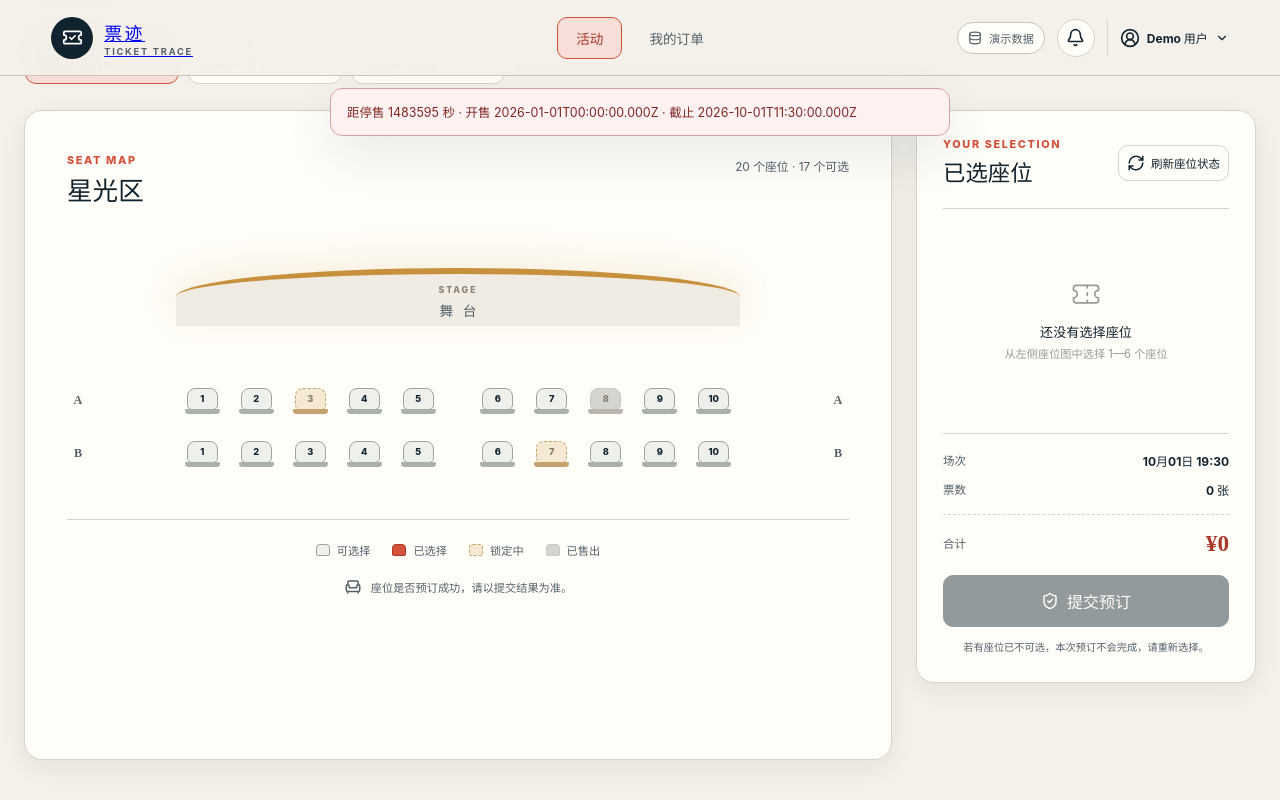
Test: Phase 9 application shell and routes › keeps the current seat snapshot and selection when availability refresh fails
(page scrolled)
Click the button named "A01，可选，¥1,280" at (202, 401), box [183, 384, 222, 418]
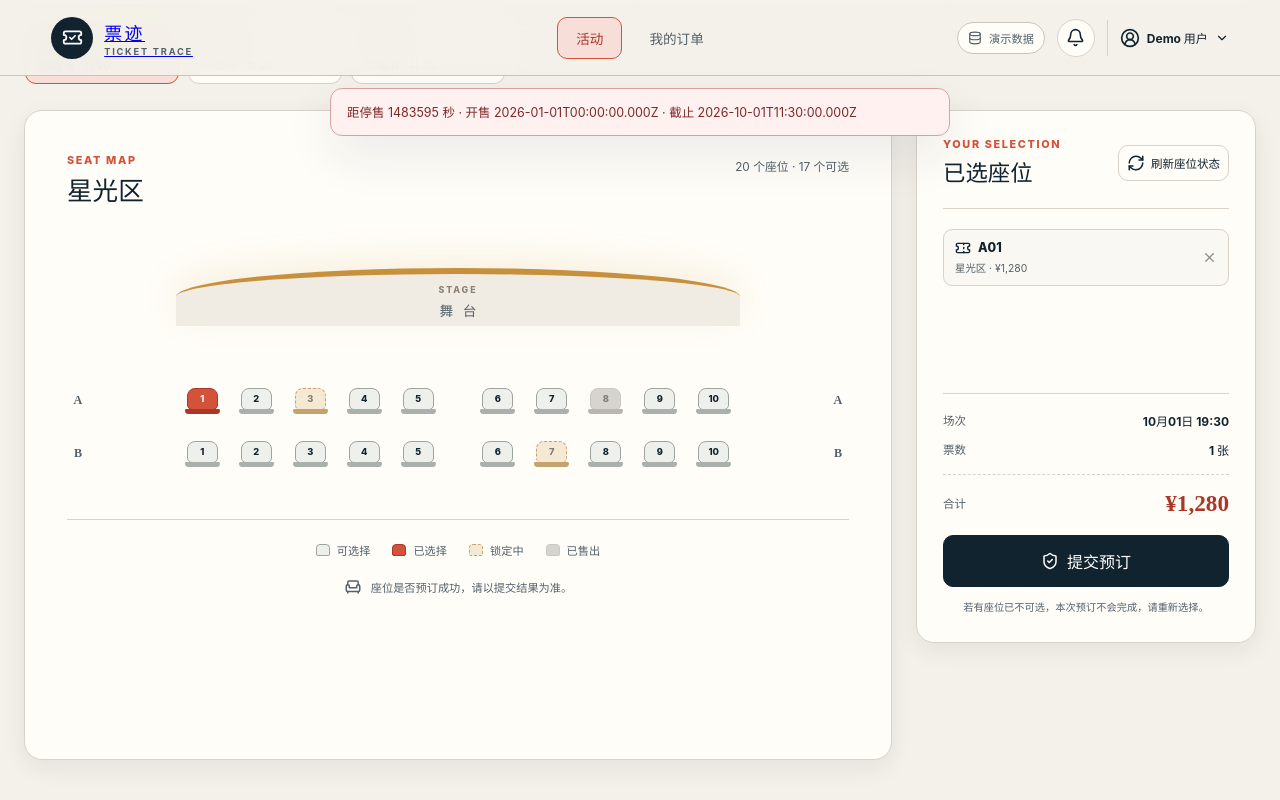
Check: the button with aria-label "移除座位 A01" is shown, box [943, 229, 1229, 286]
Click the button with aria-label "刷新座位状态" at (1173, 162), box [1118, 144, 1229, 180]
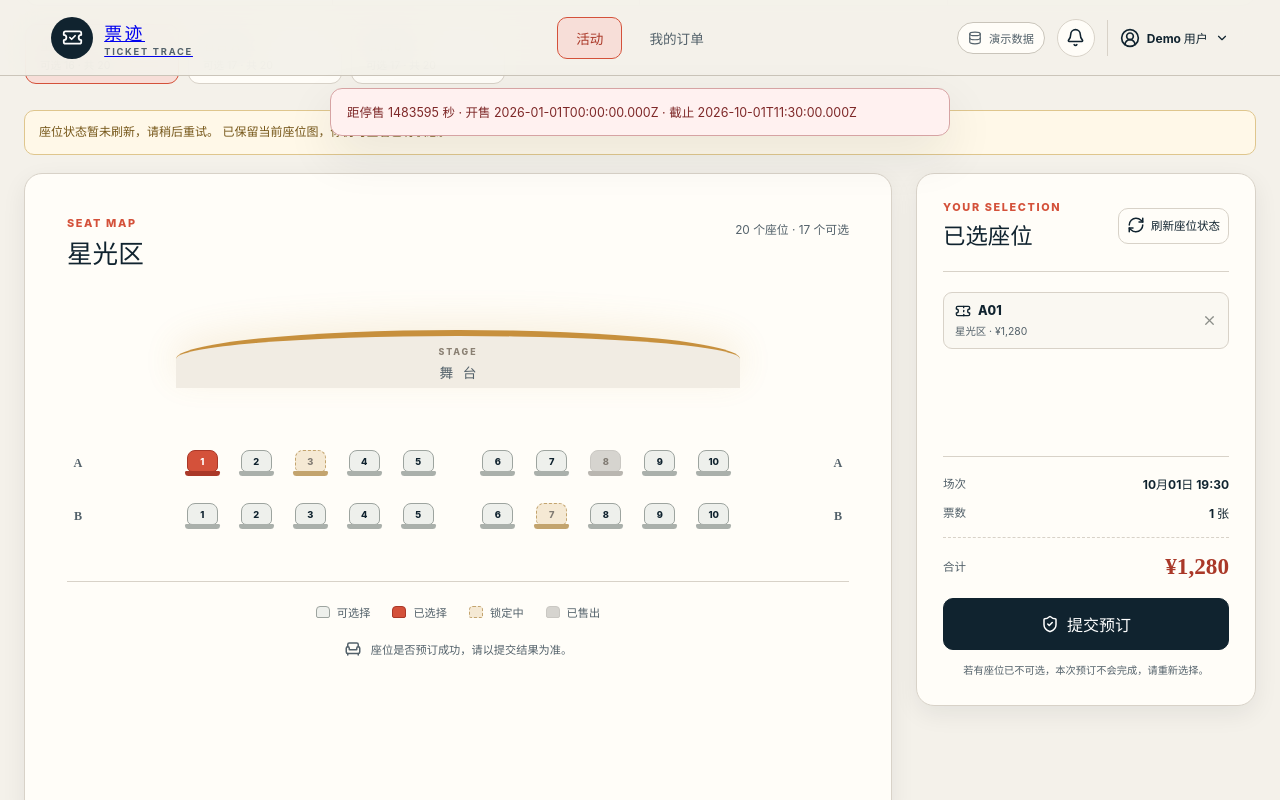
Check: the button with aria-label "移除座位 A01" is shown, box [943, 292, 1229, 348]
Check: the text "已保留当前座位图" is shown, box [39, 124, 450, 139]
